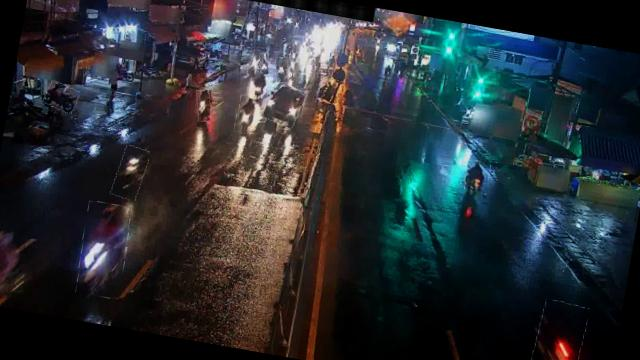Bike: (73, 200, 134, 300), (531, 298, 589, 360), (112, 144, 150, 202), (42, 81, 80, 113), (462, 159, 492, 195), (234, 94, 258, 134), (316, 76, 342, 105), (193, 88, 214, 122), (248, 68, 270, 100), (274, 56, 292, 84), (248, 50, 261, 76), (258, 52, 272, 75)
Car: (262, 81, 306, 128)
